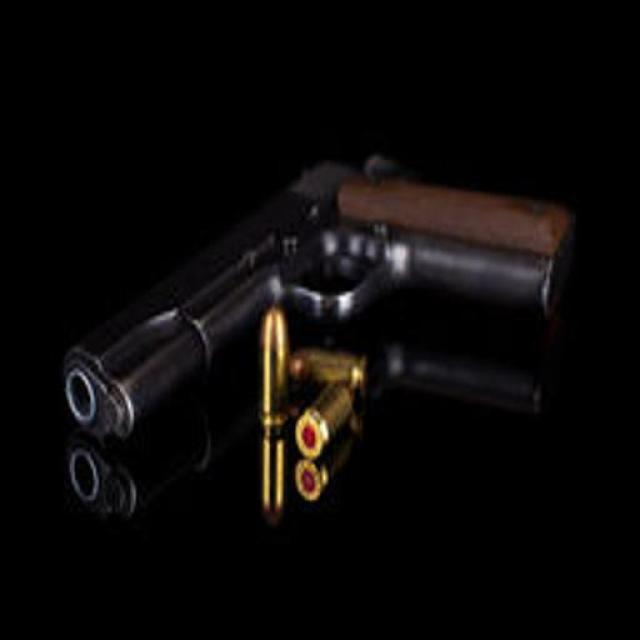pistol: (63, 148, 581, 444)
